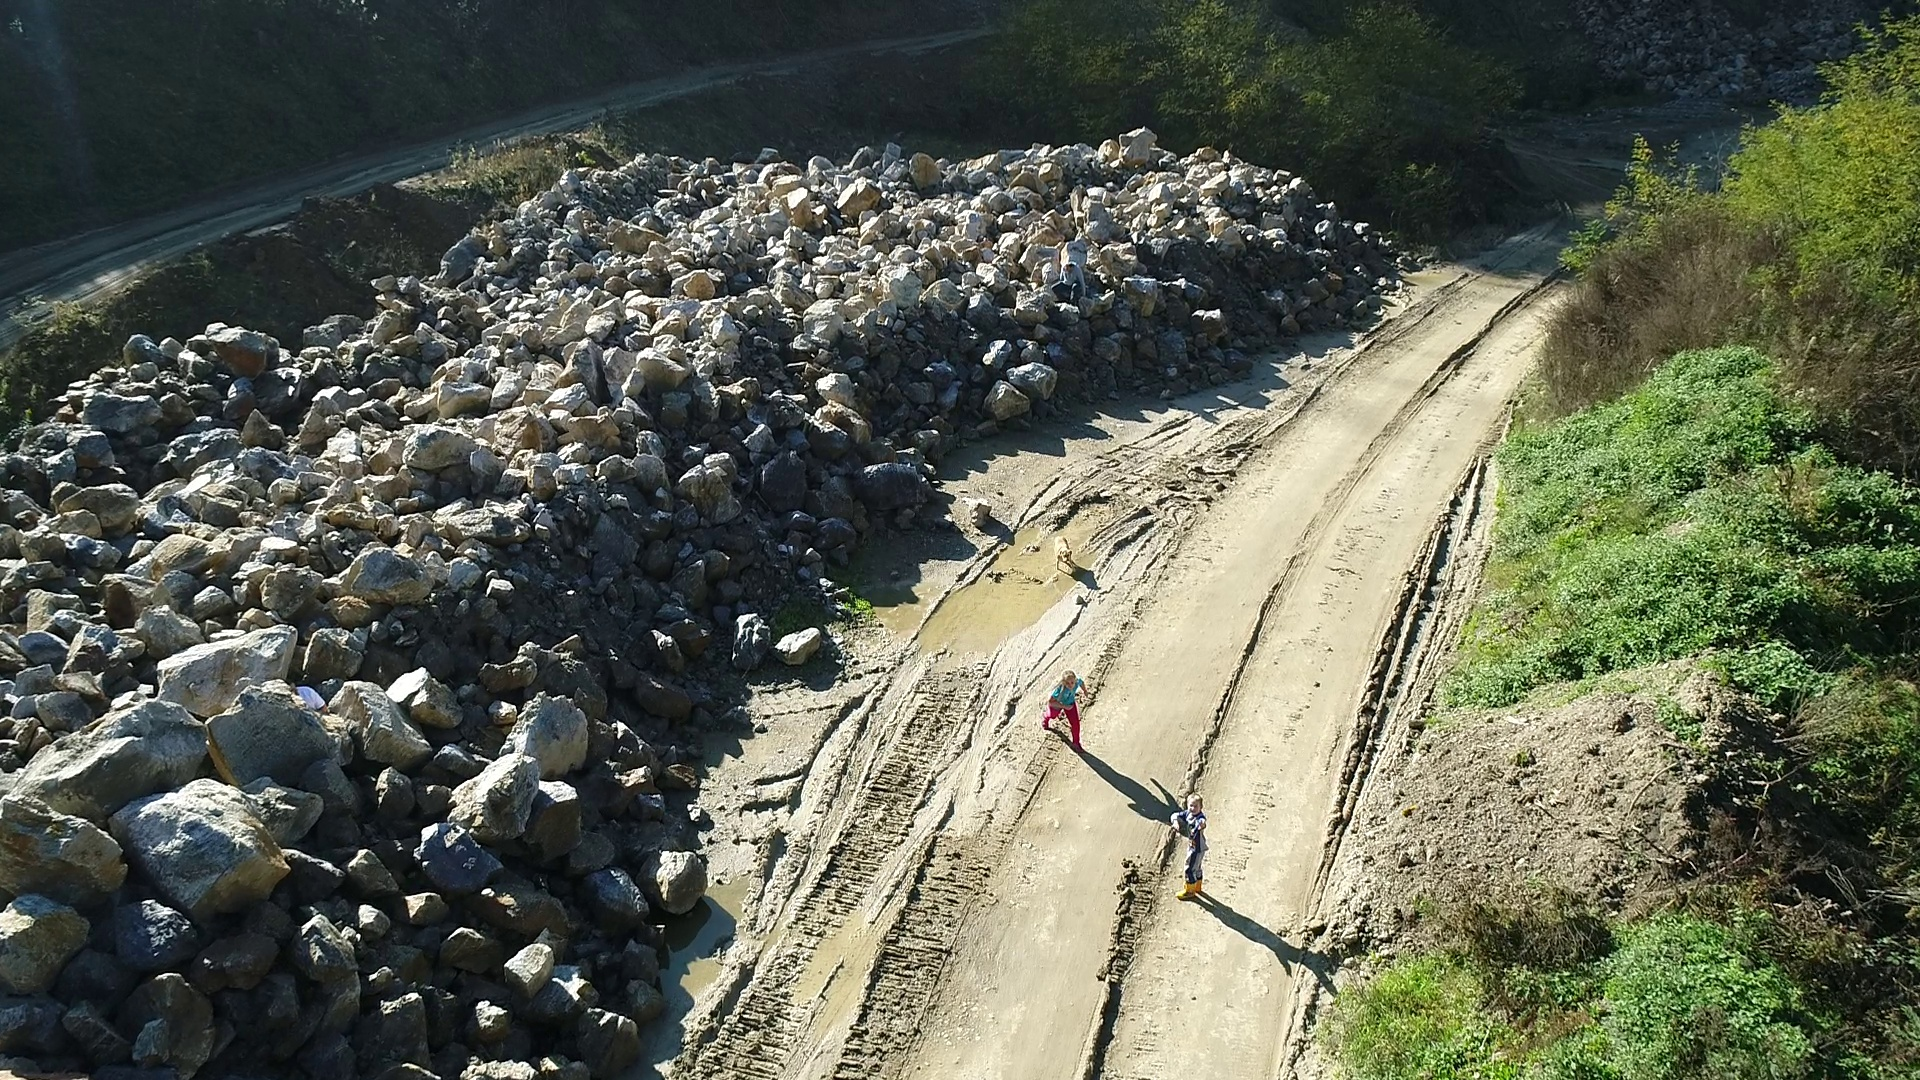not_defined: (284, 681, 329, 714)
person: (1042, 670, 1088, 754), (1173, 794, 1209, 900), (1051, 261, 1086, 305)
